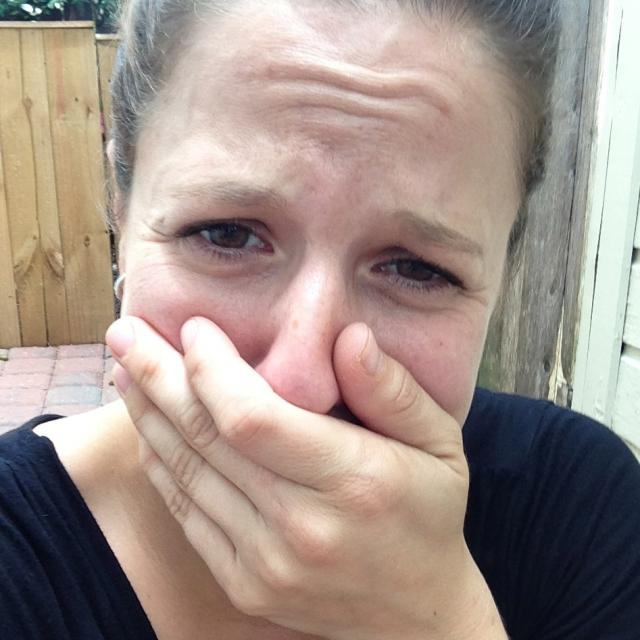Depress: (111, 0, 527, 596)
